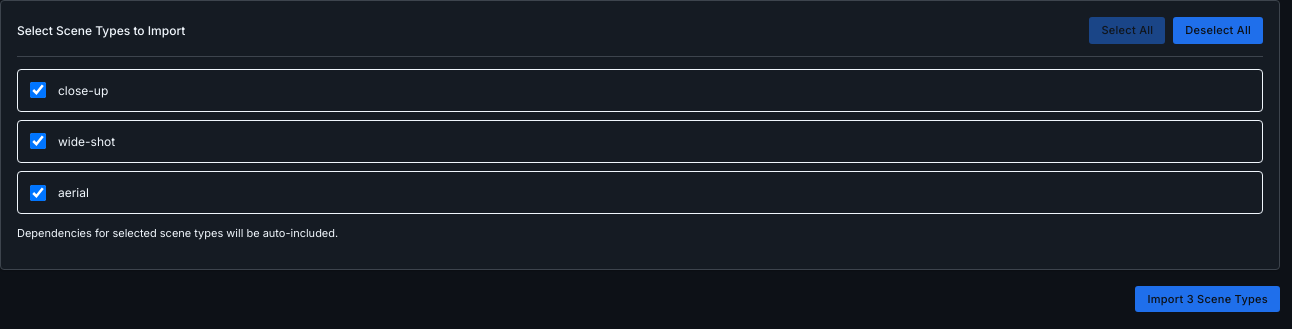
Test: SelectiveImport › deselect all unchecks all checkboxes
Click the button with test id "deselect-all-btn".
click(1218, 30)  # box [1173, 17, 1263, 44]
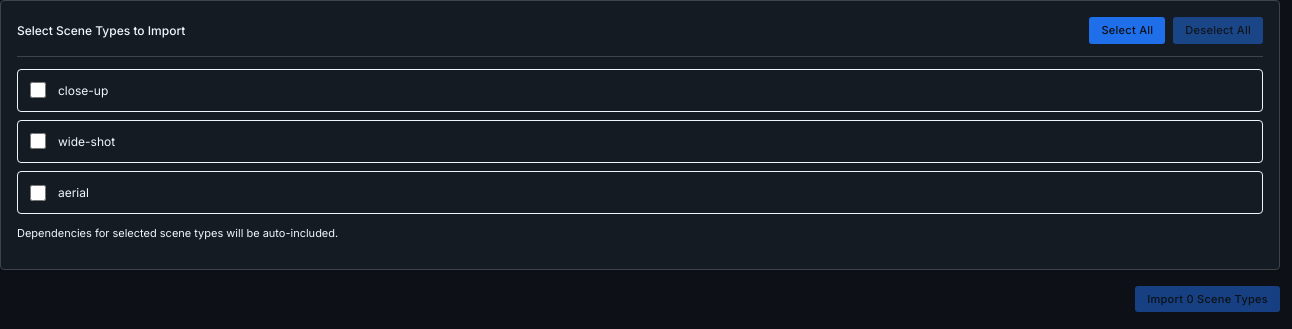
Check: the checkbox labelled "close-up" is not checked, box [30, 82, 46, 98]
Check: the checkbox labelled "wide-shot" is not checked, box [30, 133, 46, 149]
Check: the checkbox labelled "aerial" is not checked, box [30, 184, 46, 200]
